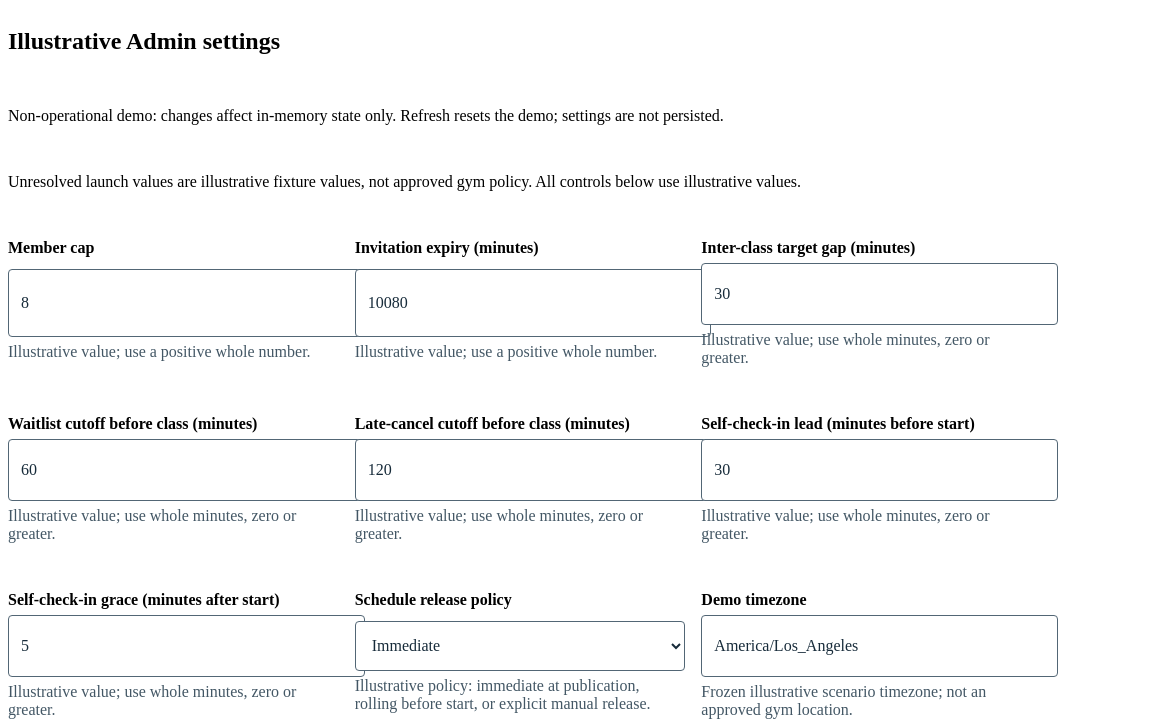
Test case: Illustrative settings › Admin settings changes › submits an adjustable memberCap through real demo state
This screenshot has width=1152, height=720.
Replace the text in the number field labelled "Member cap" with "42" at (186, 303), box [8,269,365,337]
(page scrolled)
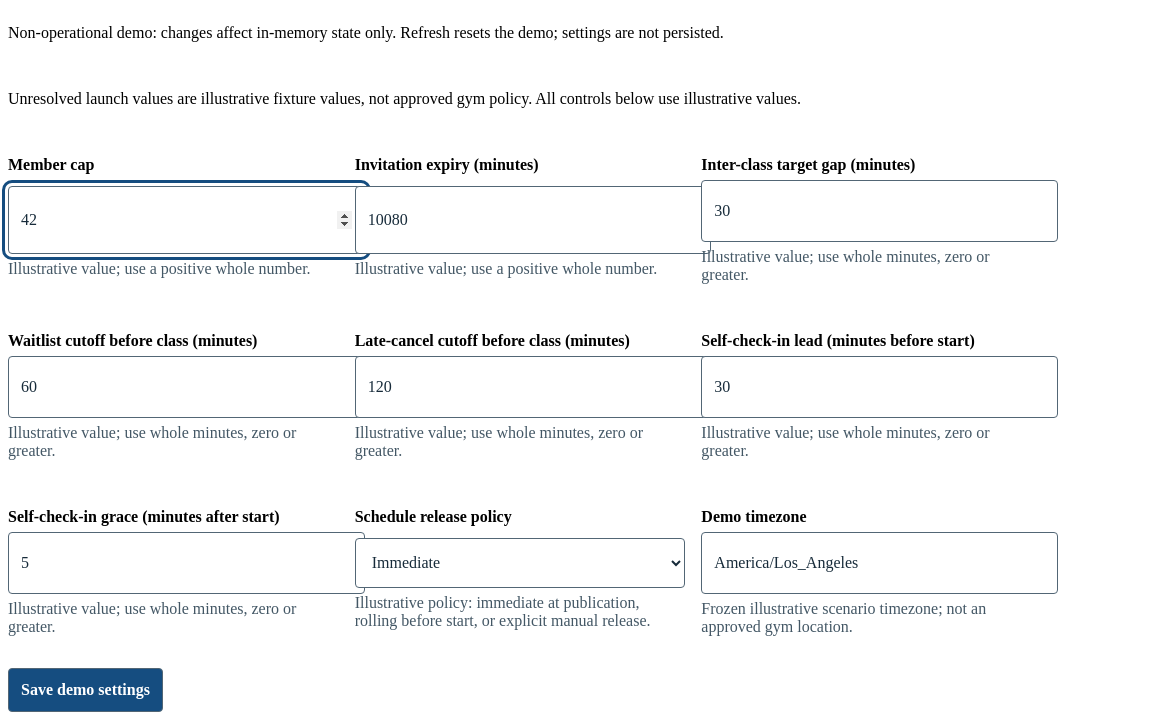
Click the button "Save demo settings" at (85, 690), box [8,668,163,712]
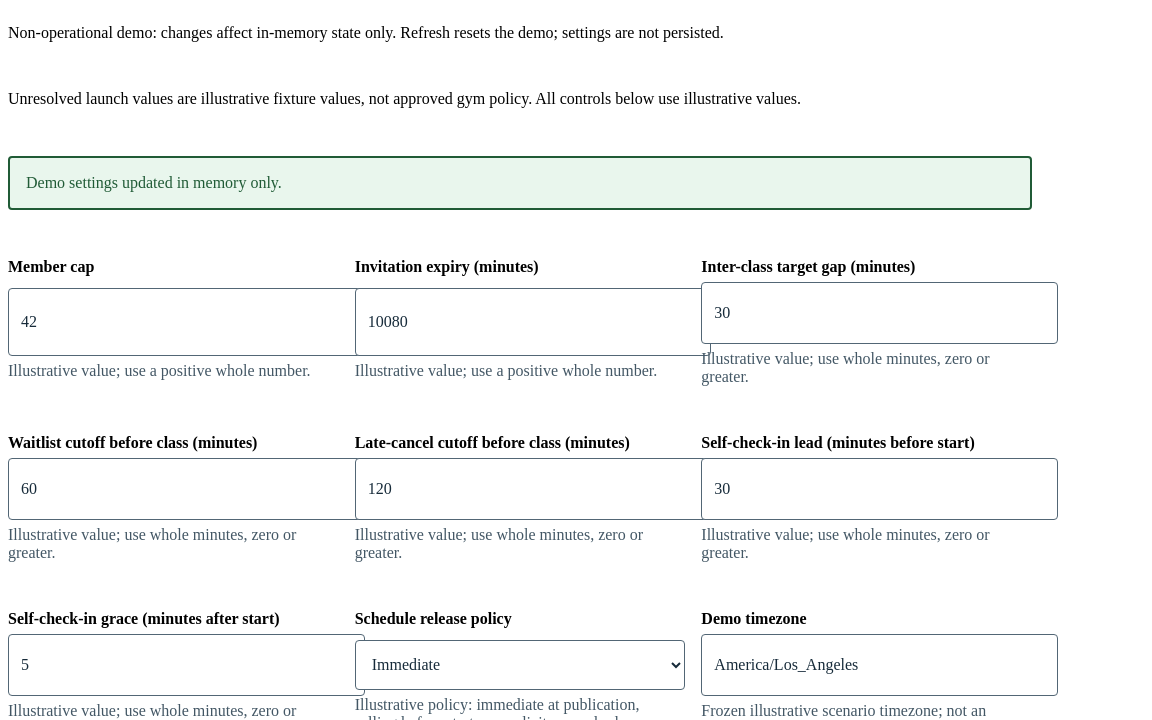
expect the message reads "Demo settings updated in memory only.": met, box [26,174,282,191]
